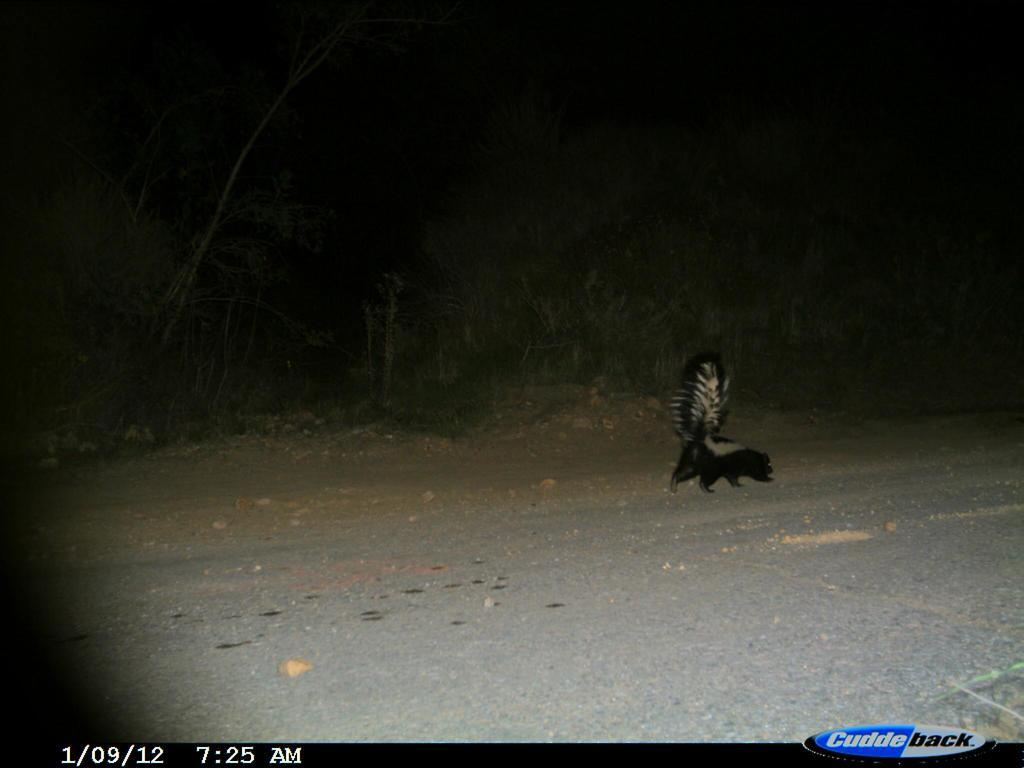skunk: (660, 351, 783, 497)
